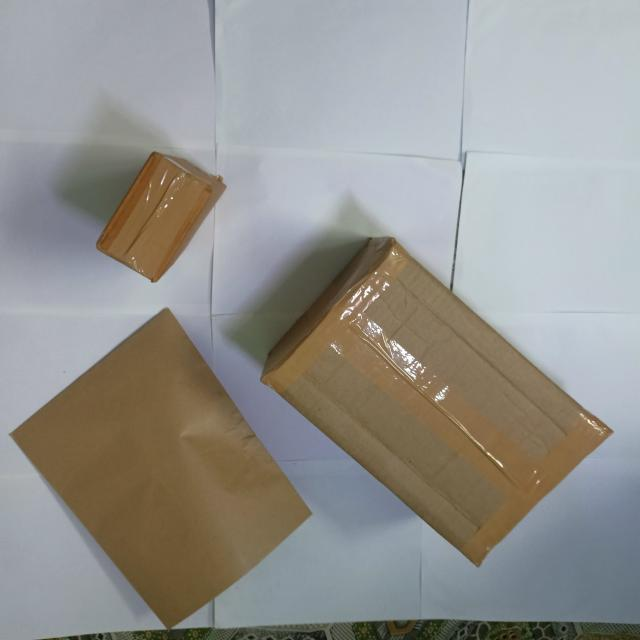box: (261, 239, 614, 569), (10, 312, 313, 631), (97, 154, 228, 286)
